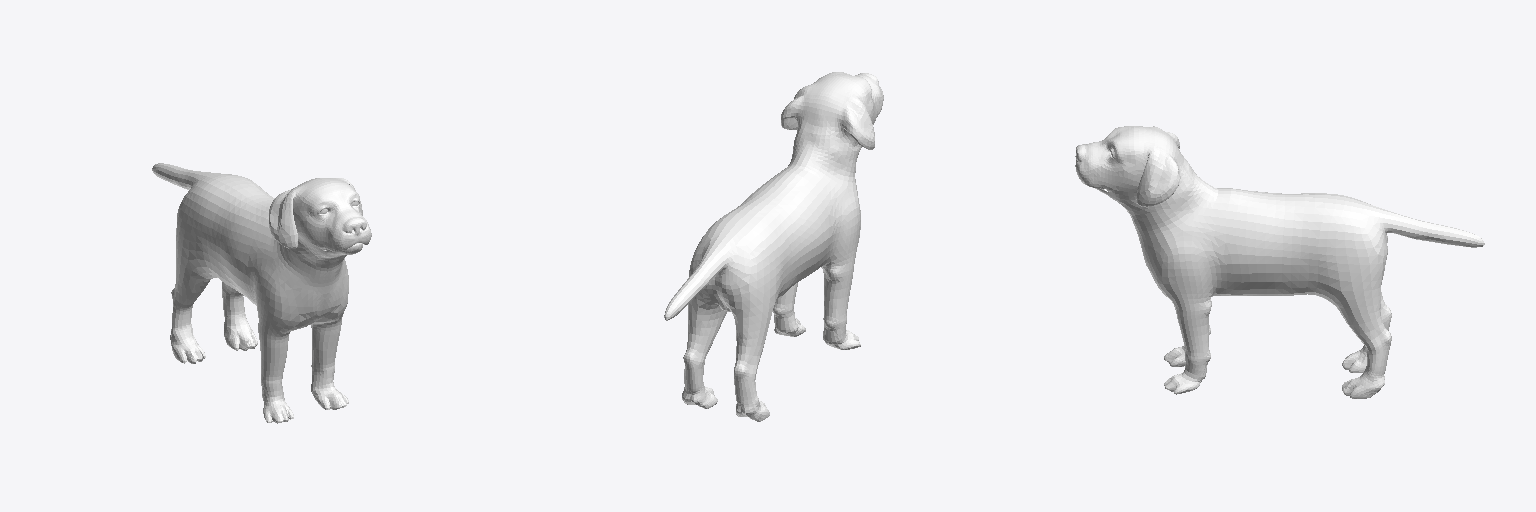
The model's file is Dog.obj.
The picture shows the model from 3 angles: view 1: azimuth 30°, elevation 25°; view 2: azimuth 150°, elevation 25°; view 3: azimuth 270°, elevation 25°; orthographic projection.
Visible parts, largest first — view 1: 12228_Dog_v1_L2; view 2: 12228_Dog_v1_L2; view 3: 12228_Dog_v1_L2.
Boxes of the visible parts, x1=… form: 12228_Dog_v1_L2: x1=152, y1=163, x2=371, y2=423; 12228_Dog_v1_L2: x1=664, y1=72, x2=883, y2=421; 12228_Dog_v1_L2: x1=1075, y1=126, x2=1484, y2=398.
Bounding box in the file's own units: 0.841 × 2.28 × 3.36.